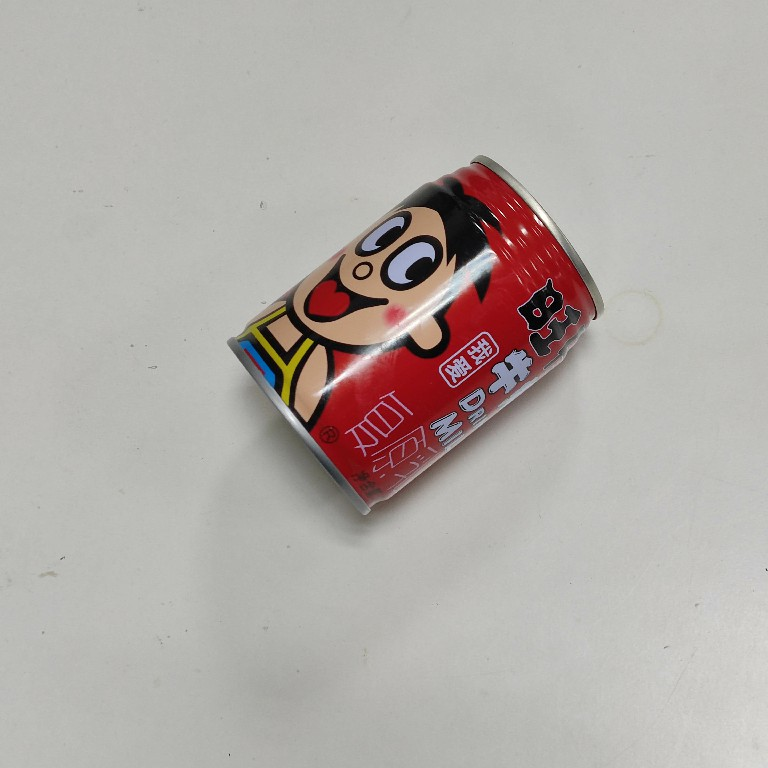can: (222, 150, 610, 523)
